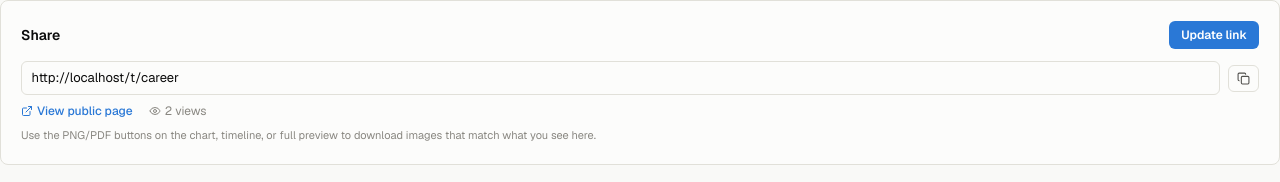
Scenario: SharePanel › shows and copies the public link
The width and height of the screenshot is (1280, 182).
Step 1. Click the button named "Copy link" → [1244, 78], box [1228,65,1259,92]
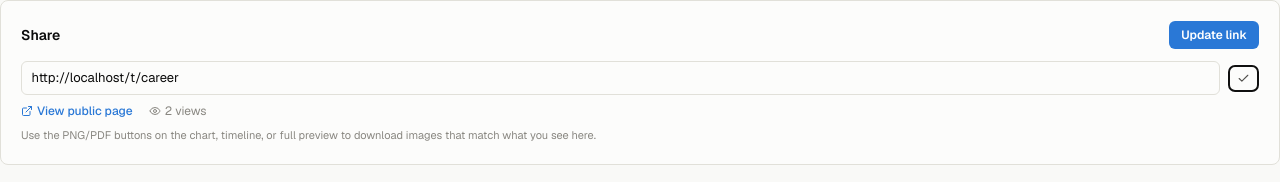
Expected: the text "2 views" is shown, [149,103,206,119]
Now the icon with class "lucide-check" is shown, box [1237,72,1250,85]
